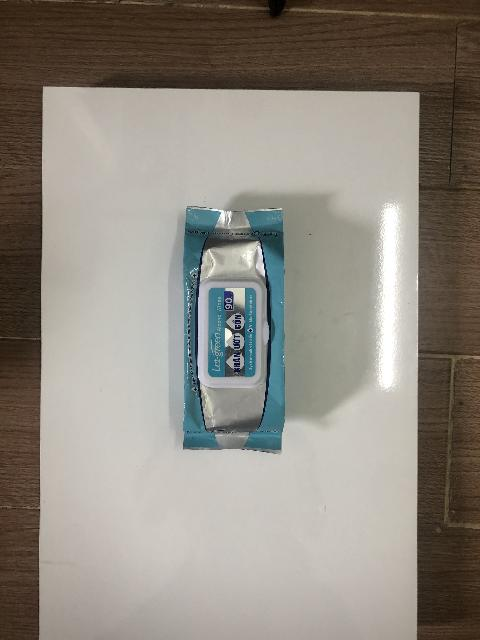Let-green_alcohol_wipes: (182, 207, 286, 455)
